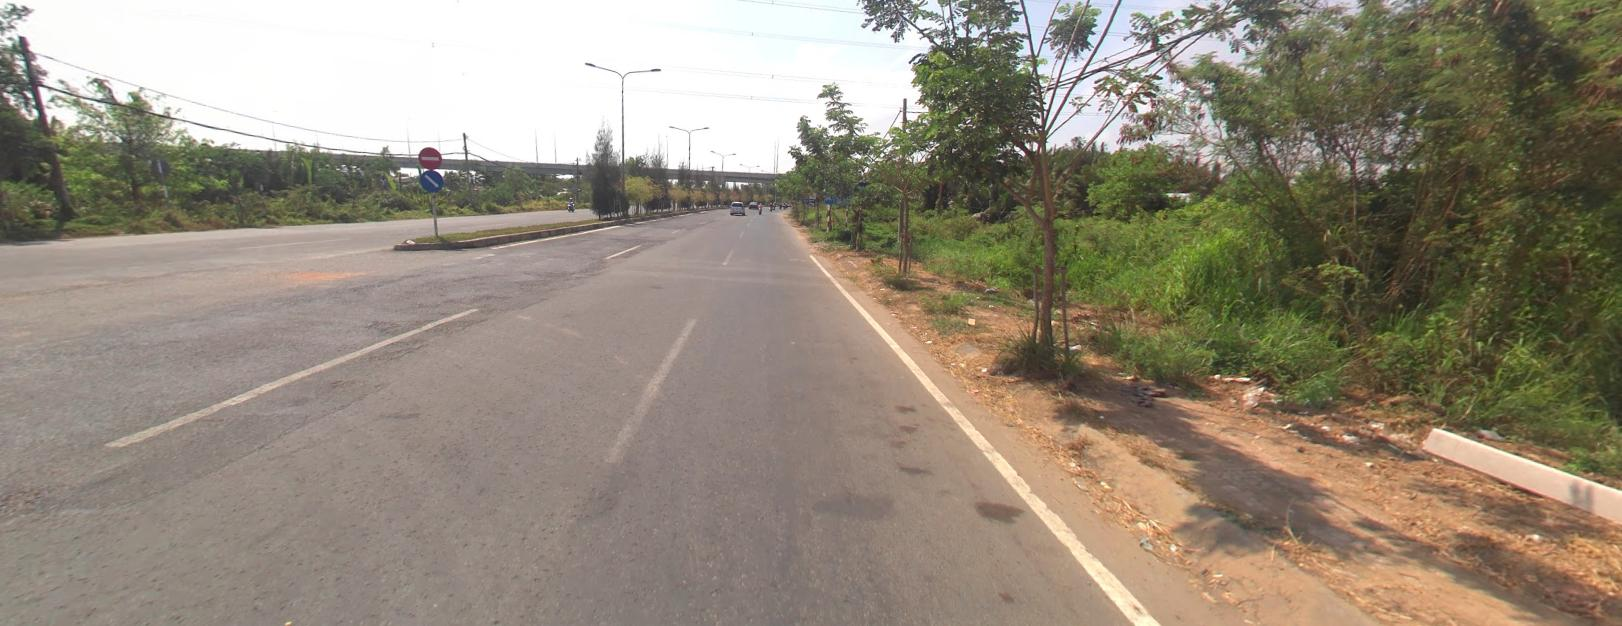Cam nguoc chieu: (418, 146, 441, 167)
Hieu lenh: (420, 169, 443, 190)
